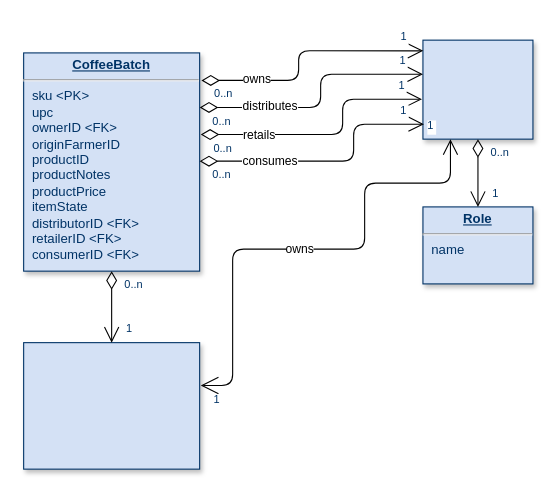
This 559x497 diagram has some shape labels left out. The centre of each missing label's shape, as x and y in pixels:
"Account address <PK>" belongs at [478,91].
"Farm id <PK> name information latitude longitude" belongs at [112,407].
